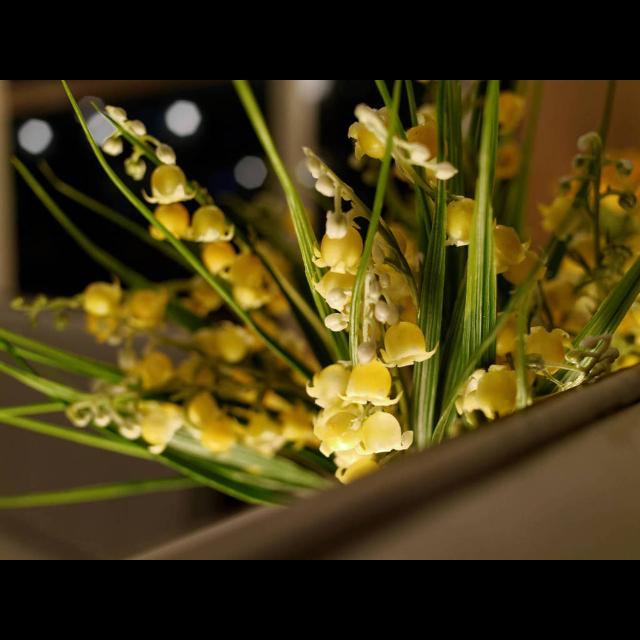Flower: (75, 92, 639, 482)
